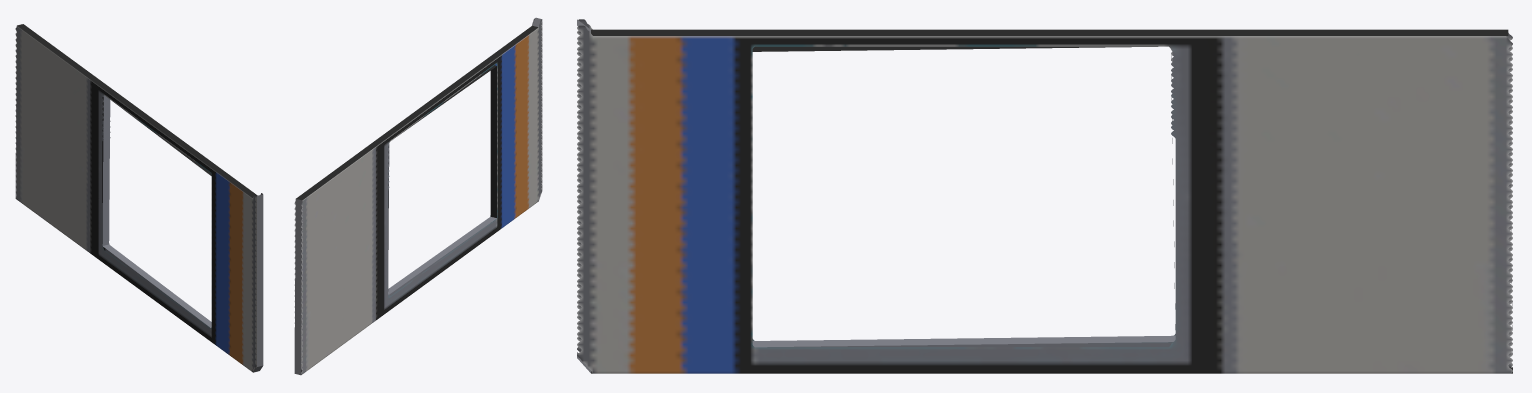
Rendered from pz_native_location_shop_fossoil_01_59_frame.obj.
The picture shows the model from 3 angles, left to right: view 1: azimuth 30°, elevation 25°; view 2: azimuth 150°, elevation 25°; view 3: azimuth 270°, elevation 25°; orthographic projection. The views are drawn at different scales.
Visible parts, largest first — view 1: pz_native_location_shop_fossoil_01_59_frame; view 2: pz_native_location_shop_fossoil_01_59_frame; view 3: pz_native_location_shop_fossoil_01_59_frame.
Part boxes in pixels (bbox=[...]): pz_native_location_shop_fossoil_01_59_frame: bbox=[15, 24, 263, 372]; pz_native_location_shop_fossoil_01_59_frame: bbox=[294, 17, 542, 375]; pz_native_location_shop_fossoil_01_59_frame: bbox=[577, 19, 1512, 373].
Bounding box in the file's own units: 0.04 × 1.06 × 2.54.
Materials: 1 (1 with a texture image).
